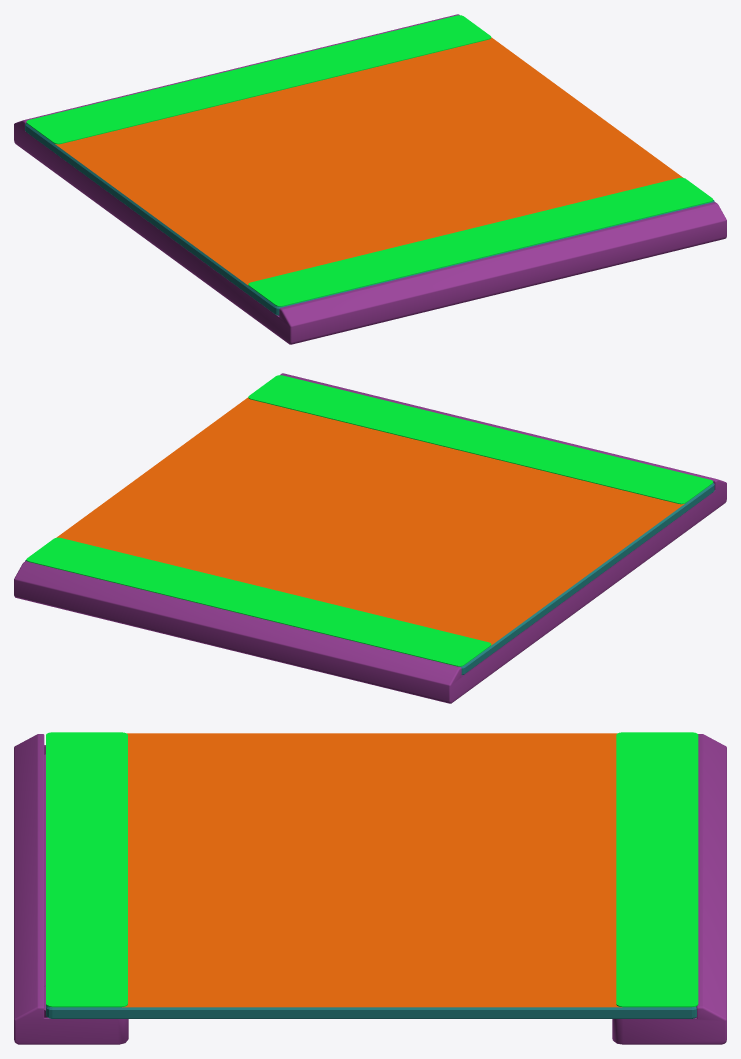
3 renders of one model, top to bottom at view 1: azimuth 30°, elevation 25°; view 2: azimuth 150°, elevation 25°; view 3: azimuth 270°, elevation 25°, orthographic. The views are drawn at different scales.
Parts seen in each view (by area): view 1: 114; view 2: 114; view 3: 114.
Part boxes in pixels (x1=…): 114: x1=14, y1=14, x2=726, y2=344; 114: x1=14, y1=373, x2=726, y2=703; 114: x1=14, y1=732, x2=726, y2=1044.
Size of the model in its own units: 30.2 by 2.37 by 33.
